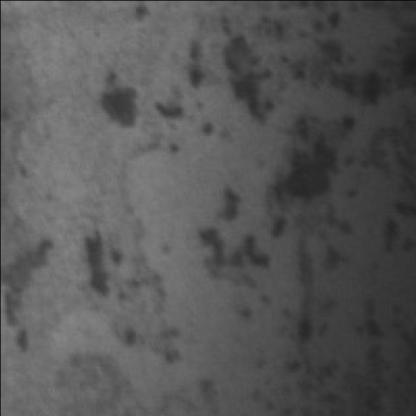inclusion: (92, 67, 137, 129)
patches: (0, 231, 54, 327)
pitted_surface: (131, 27, 414, 399)
